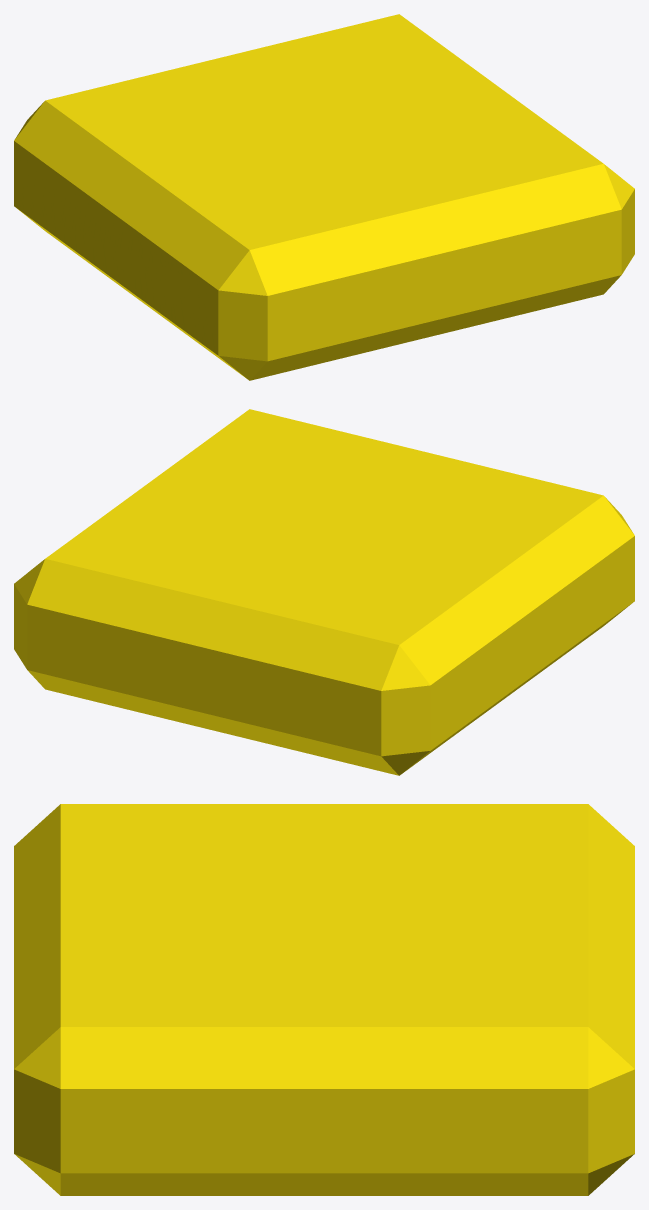
Rendered from sign_cube_shine.fbx.
The picture shows the model from 3 angles, top to bottom: view 1: azimuth 30°, elevation 25°; view 2: azimuth 150°, elevation 25°; view 3: azimuth 270°, elevation 25°; orthographic projection. The views are drawn at different scales.
Parts seen in each view (by area): view 1: polySurface26; view 2: polySurface26; view 3: polySurface26.
Boxes of the visible parts, left/top/right/bottom form: polySurface26: left=14, top=14, right=634, bottom=380; polySurface26: left=14, top=409, right=634, bottom=775; polySurface26: left=14, top=804, right=634, bottom=1195.
Bounding box in the file's own units: 1 × 0.3 × 1.
1 material, 1 textured.
